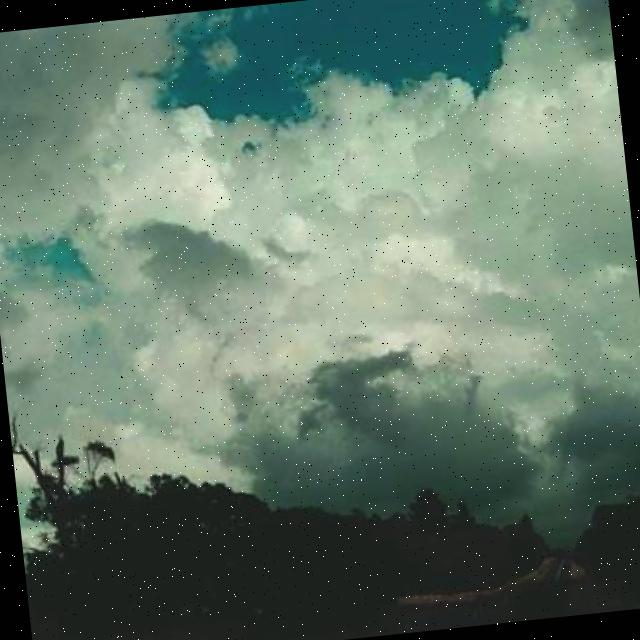St: (1, 1, 640, 424)
